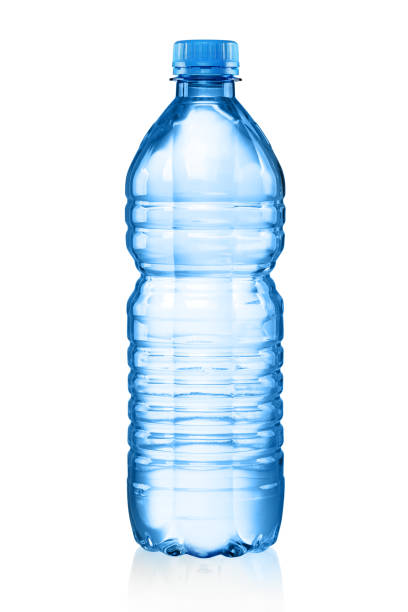HDPE Cap: (172, 38, 240, 67)
HDPE Ring: (172, 67, 239, 74)
PET Bottle: (125, 39, 286, 561)
